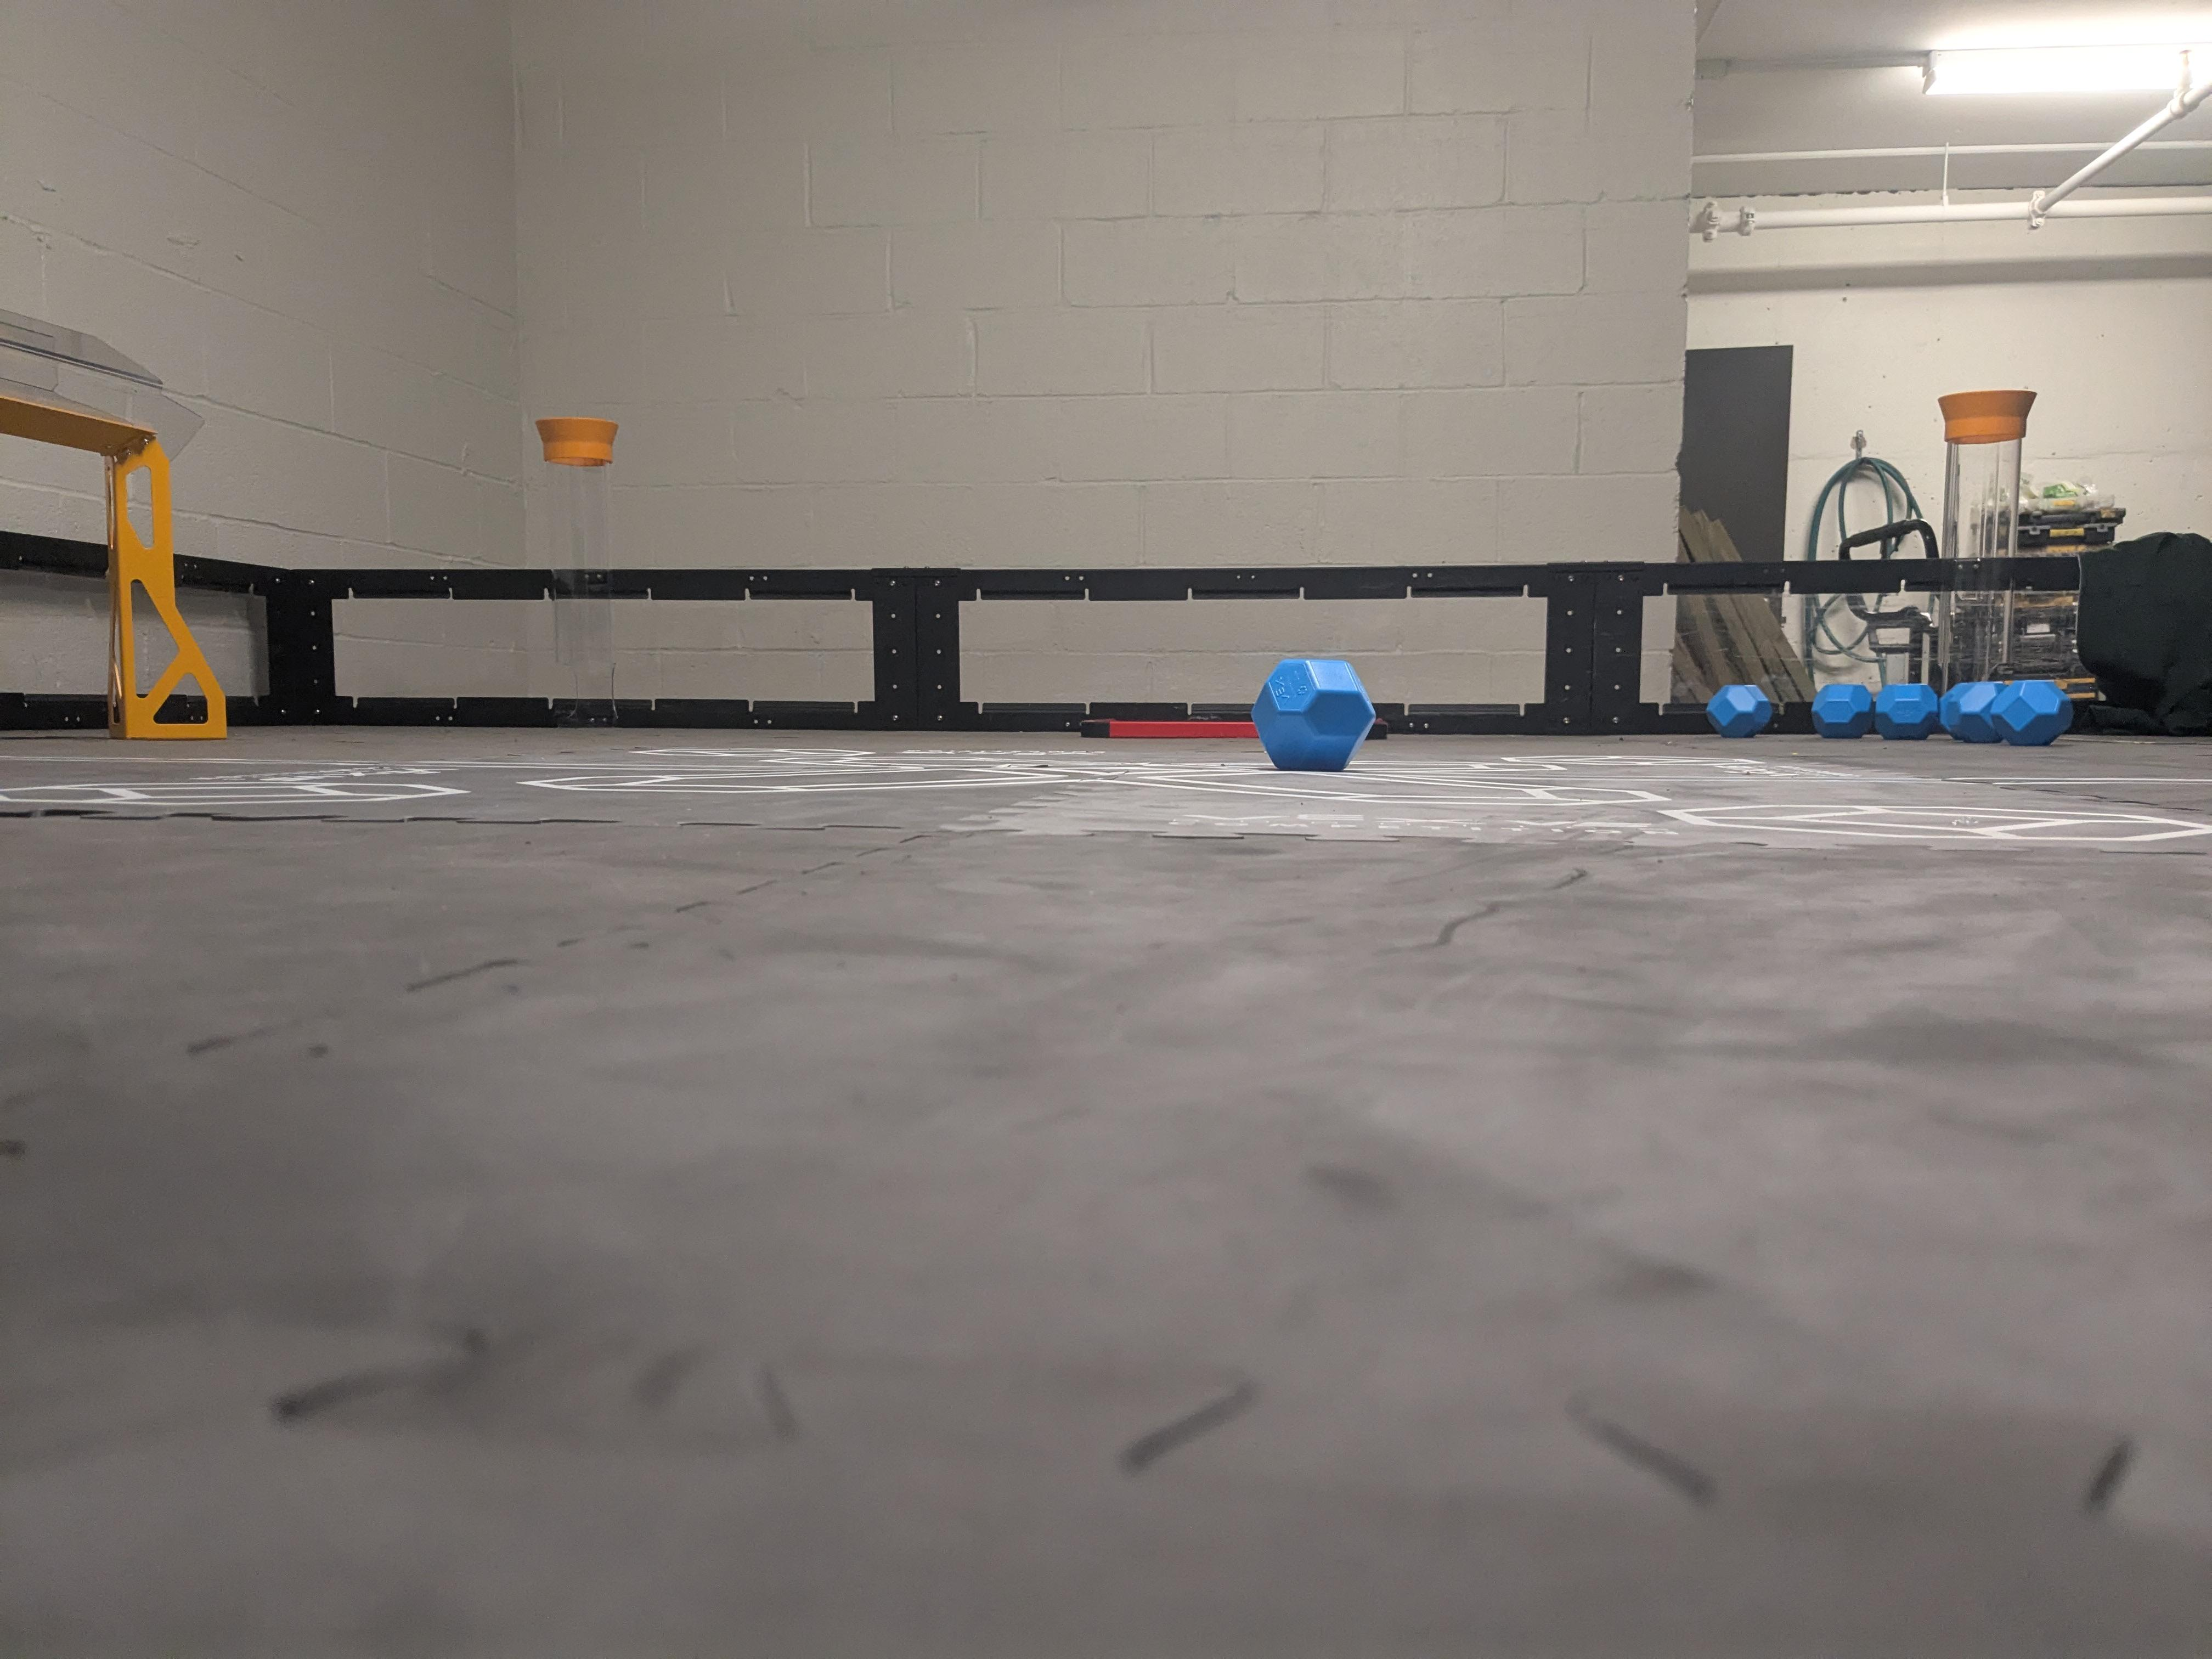Vex-Pieces-BLUE: (1258, 659, 1372, 767), (1942, 678, 2069, 744), (1876, 683, 1939, 741), (1811, 685, 1872, 739), (1707, 688, 1768, 734)
